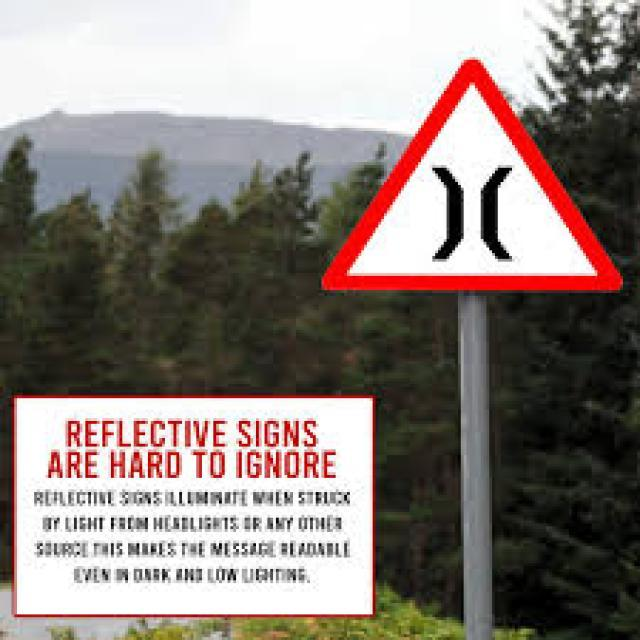narrow bridge ahead: (322, 52, 630, 300)
